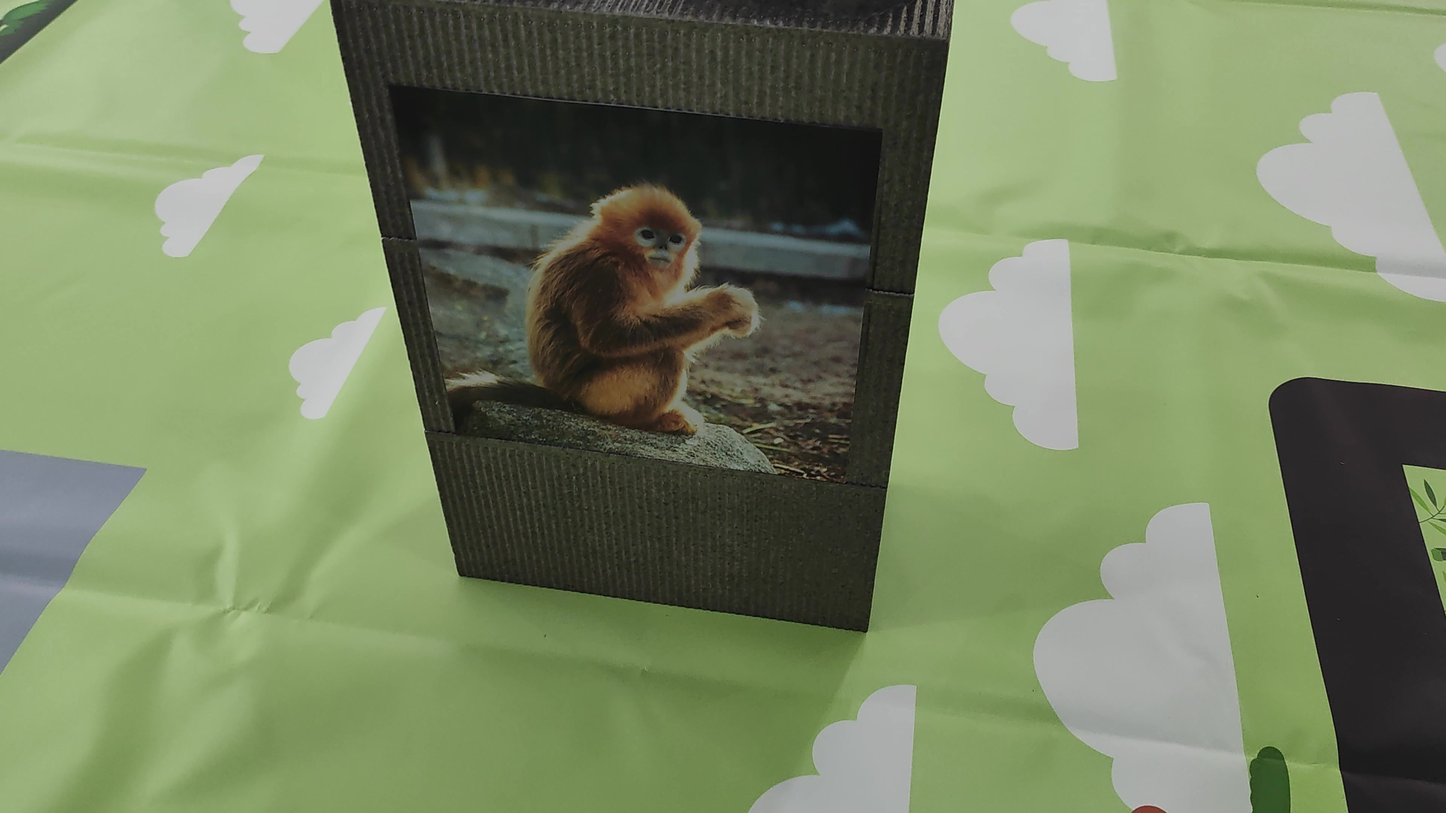monkey: (496, 159, 777, 440)
